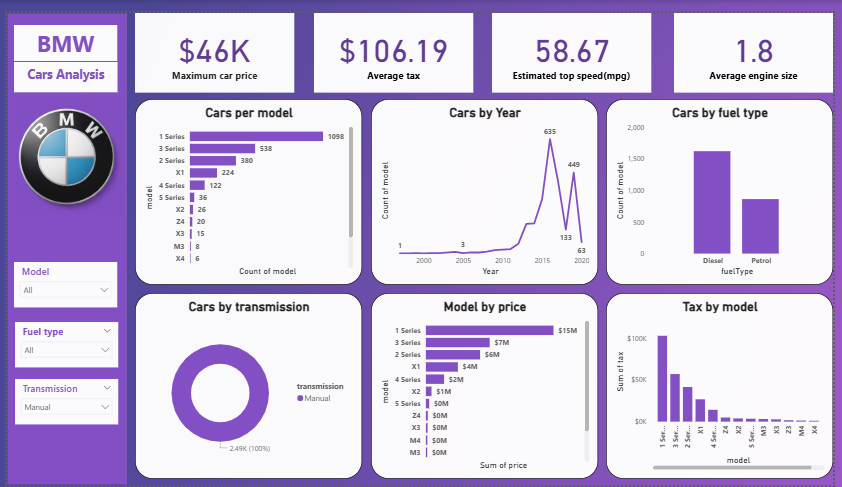

Layout of this report page (visuals, bound fields, positions):
{"tool":"powerbi","page":{"name":"Page 1","canvas":[1400,800],"ordinal":0},"visuals":[{"type":"barChart","title":"Cars per model","fields":{"Category":["BMW_data.model"],"Y":["CountNonNull(BMW_data.model)"]},"box":[216.7,145,385,315],"z":0},{"type":"donutChart","title":"Cars by transmission","fields":{"Category":["BMW_data.transmission"],"Y":["CountNonNull(BMW_data.model)"]},"box":[216.7,475,385,315],"z":1000},{"type":"columnChart","title":"Cars by fuel type","fields":{"Category":["BMW_data.fuelType"],"Y":["CountNonNull(BMW_data.model)"]},"box":[1015,145,385,315],"z":2000},{"type":"clusteredBarChart","title":"Model by price","fields":{"Category":["BMW_data.model"],"Y":["Sum(BMW_data.price)"]},"box":[616.7,475,385,315],"z":3000},{"type":"columnChart","title":"Tax by model","fields":{"Category":["BMW_data.model"],"Y":["Sum(BMW_data.tax)"]},"box":[1015,475,385,315],"z":4000},{"type":"shape","box":[14,0,203.5,800],"z":5000},{"type":"lineChart","title":"Cars by Year ","fields":{"Y":["CountNonNull(BMW_data.model)"],"Category":["BMW_data.year.Variation.Date Hierarchy.Year"]},"box":[616.7,145,385,315],"z":6000},{"type":"card","fields":{"Values":["Max(BMW_data.price)"]},"box":[216.7,0,270,135],"z":7000},{"type":"card","fields":{"Values":["Avg(BMW_data.tax)"]},"box":[520,0,270,135],"z":8000},{"type":"card","fields":{"Values":["Avg(BMW_data.mpg)"]},"box":[821.7,0,270,135],"z":9000},{"type":"card","fields":{"Values":["Avg(BMW_data.engineSize)"]},"box":[1130,0,270,135],"z":10000},{"type":"textbox","box":[12.3,21.1,175.4,61.4],"z":11000},{"type":"textbox","box":[12.3,82.5,175.4,50.9],"z":12000},{"type":"slicer","fields":{"Values":["BMW_data.model"]},"box":[12.3,422.8,175.4,77.2],"z":13000},{"type":"slicer","fields":{"Values":["BMW_data.transmission"]},"box":[14,621.1,175.4,77.2],"z":14000},{"type":"slicer","fields":{"Values":["BMW_data.fuelType"]},"box":[14,524.6,175.4,77.2],"z":15000},{"type":"image","box":[7.1,135.7,196.4,212.5],"z":16000}]}

Visuals, with their boxes in screenshot pixels (x1, y1, x2, y2), scaled from the page's 1400x800 canvas onto the 842x487 screenshot:
"Cars per model" barChart: {"left": 130, "top": 88, "right": 362, "bottom": 280}
"Cars by transmission" donutChart: {"left": 130, "top": 289, "right": 362, "bottom": 481}
"Cars by fuel type" columnChart: {"left": 610, "top": 88, "right": 841, "bottom": 280}
"Model by price" clusteredBarChart: {"left": 371, "top": 289, "right": 602, "bottom": 481}
"Tax by model" columnChart: {"left": 610, "top": 289, "right": 841, "bottom": 481}
shape: {"left": 8, "top": 0, "right": 131, "bottom": 486}
"Cars by Year " lineChart: {"left": 371, "top": 88, "right": 602, "bottom": 280}
card - Max(BMW_data.price): {"left": 130, "top": 0, "right": 293, "bottom": 82}
card - Avg(BMW_data.tax): {"left": 313, "top": 0, "right": 475, "bottom": 82}
card - Avg(BMW_data.mpg): {"left": 494, "top": 0, "right": 657, "bottom": 82}
card - Avg(BMW_data.engineSize): {"left": 680, "top": 0, "right": 841, "bottom": 82}
textbox: {"left": 7, "top": 13, "right": 113, "bottom": 50}
textbox: {"left": 7, "top": 50, "right": 113, "bottom": 81}
slicer - BMW_data.model: {"left": 7, "top": 257, "right": 113, "bottom": 304}
slicer - BMW_data.transmission: {"left": 8, "top": 378, "right": 114, "bottom": 425}
slicer - BMW_data.fuelType: {"left": 8, "top": 319, "right": 114, "bottom": 366}
image: {"left": 4, "top": 83, "right": 122, "bottom": 212}
